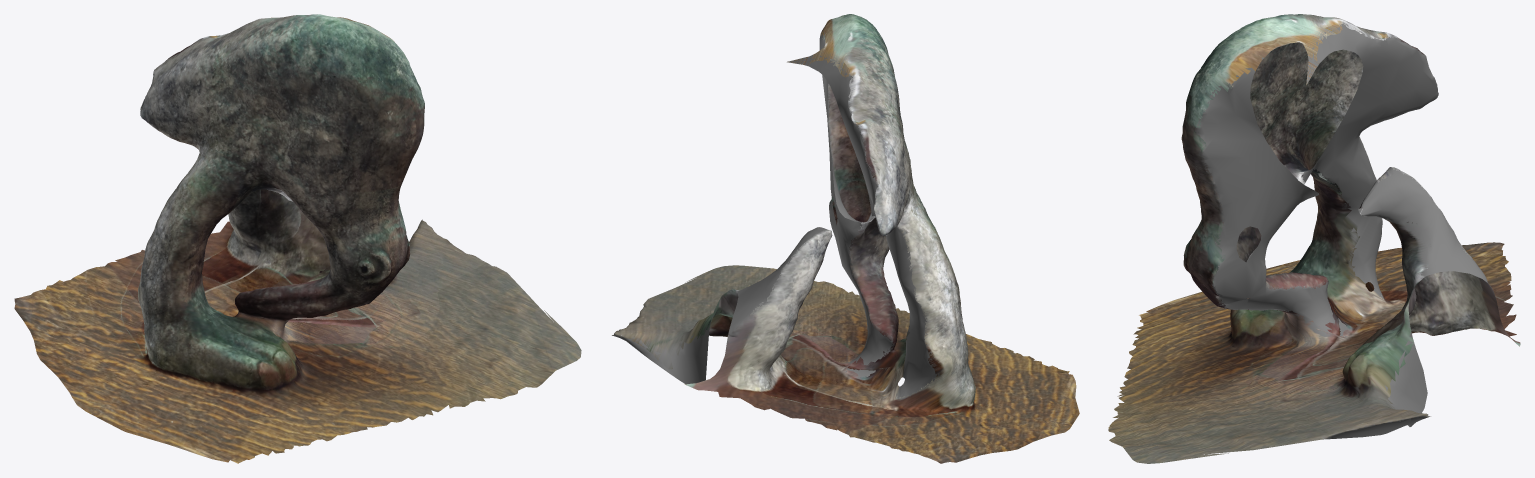
File: kiekeboeBird.obj
3 views of the same model, side by side, from view 1: azimuth 30°, elevation 25°; view 2: azimuth 150°, elevation 25°; view 3: azimuth 270°, elevation 25° (orthographic). The views are drawn at different scales.
Visible parts, largest first — view 1: default; view 2: default; view 3: default.
Part boxes in pixels (box(x1,y1,x2,y2)): default: box(14, 14, 581, 463); default: box(612, 14, 1079, 463); default: box(1108, 14, 1520, 463).
Size of the model in its own units: 14.28 by 11.51 by 11.53.
